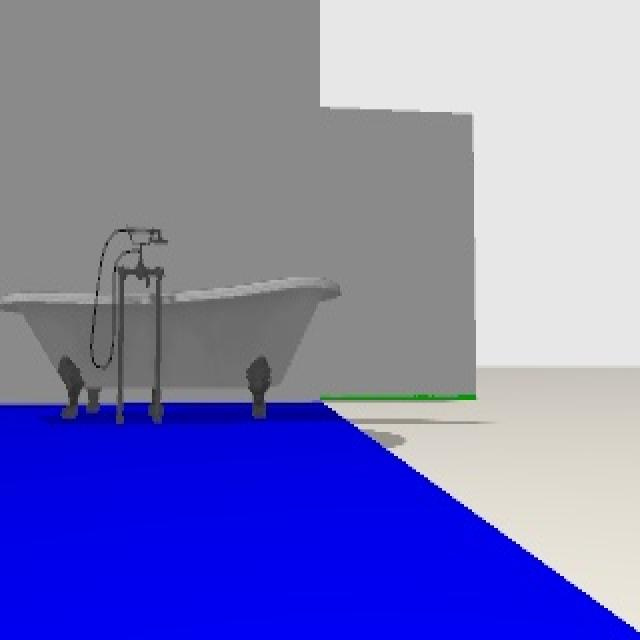bathtub: (0, 227, 342, 424)
